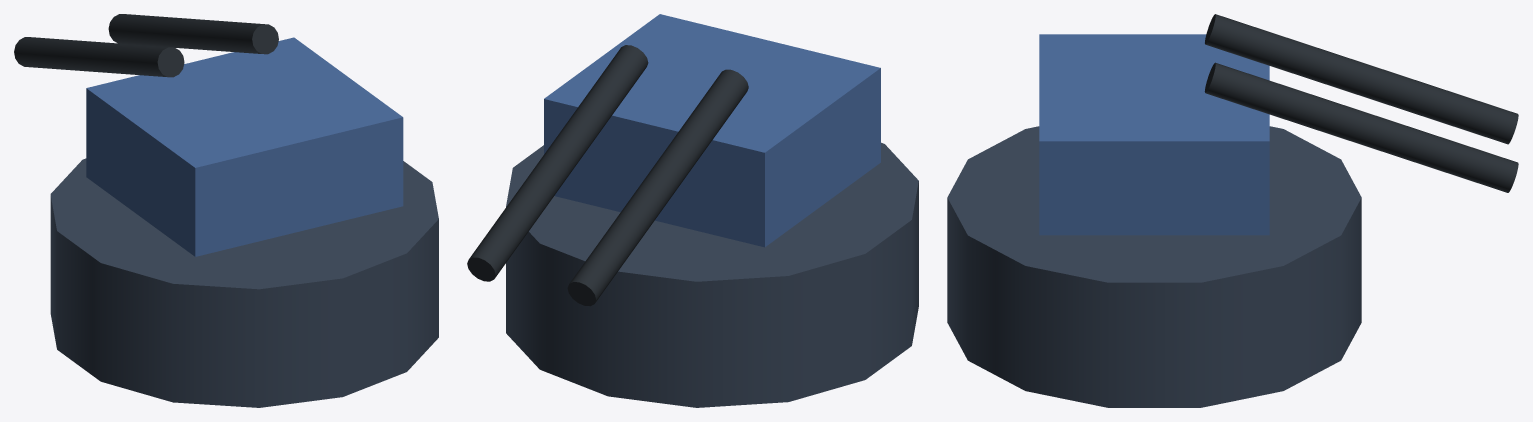
File: base_defense.glb
3 views of the same model, side by side, from view 1: azimuth 30°, elevation 25°; view 2: azimuth 150°, elevation 25°; view 3: azimuth 270°, elevation 25° (orthographic). The views are drawn at different scales.
Visible parts, largest first — view 1: _MeshInstance3D_34, _MeshInstance3D_35, _MeshInstance3D_36, _MeshInstance3D_37; view 2: _MeshInstance3D_34, _MeshInstance3D_35, _MeshInstance3D_36, _MeshInstance3D_37; view 3: _MeshInstance3D_34, _MeshInstance3D_35, _MeshInstance3D_37, _MeshInstance3D_36.
Part boxes in pixels (box(x1,y1,x2,y2)): _MeshInstance3D_34: box(50, 158, 438, 407); _MeshInstance3D_35: box(86, 37, 403, 256); _MeshInstance3D_36: box(14, 37, 184, 77); _MeshInstance3D_37: box(108, 14, 278, 54); _MeshInstance3D_34: box(506, 142, 918, 407); _MeshInstance3D_35: box(544, 14, 880, 247); _MeshInstance3D_36: box(567, 69, 748, 306); _MeshInstance3D_37: box(467, 45, 648, 281); _MeshInstance3D_34: box(947, 126, 1361, 407); _MeshInstance3D_35: box(1039, 34, 1269, 235); _MeshInstance3D_37: box(1204, 62, 1518, 192); _MeshInstance3D_36: box(1205, 14, 1518, 144).
Size of the model in its own units: 1.75 by 1.36 by 2.48.
